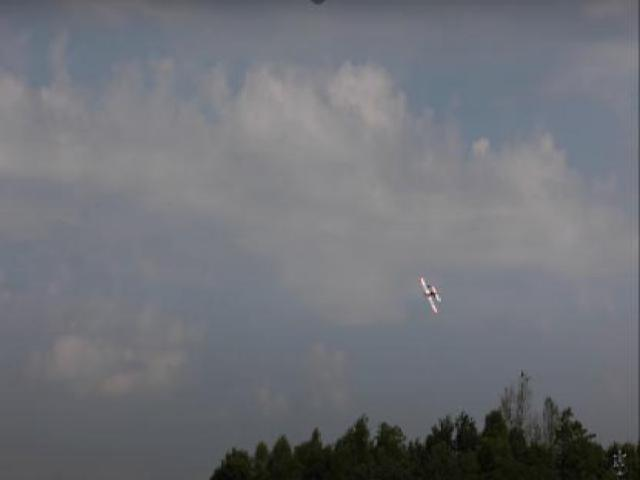uav: (415, 272, 443, 320)
